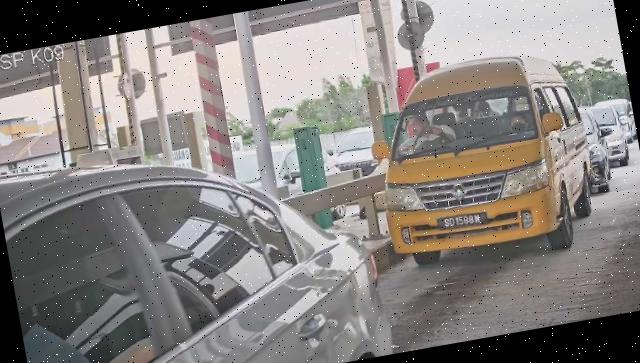License_Plate: (434, 207, 490, 235)
van: (364, 44, 606, 279)
